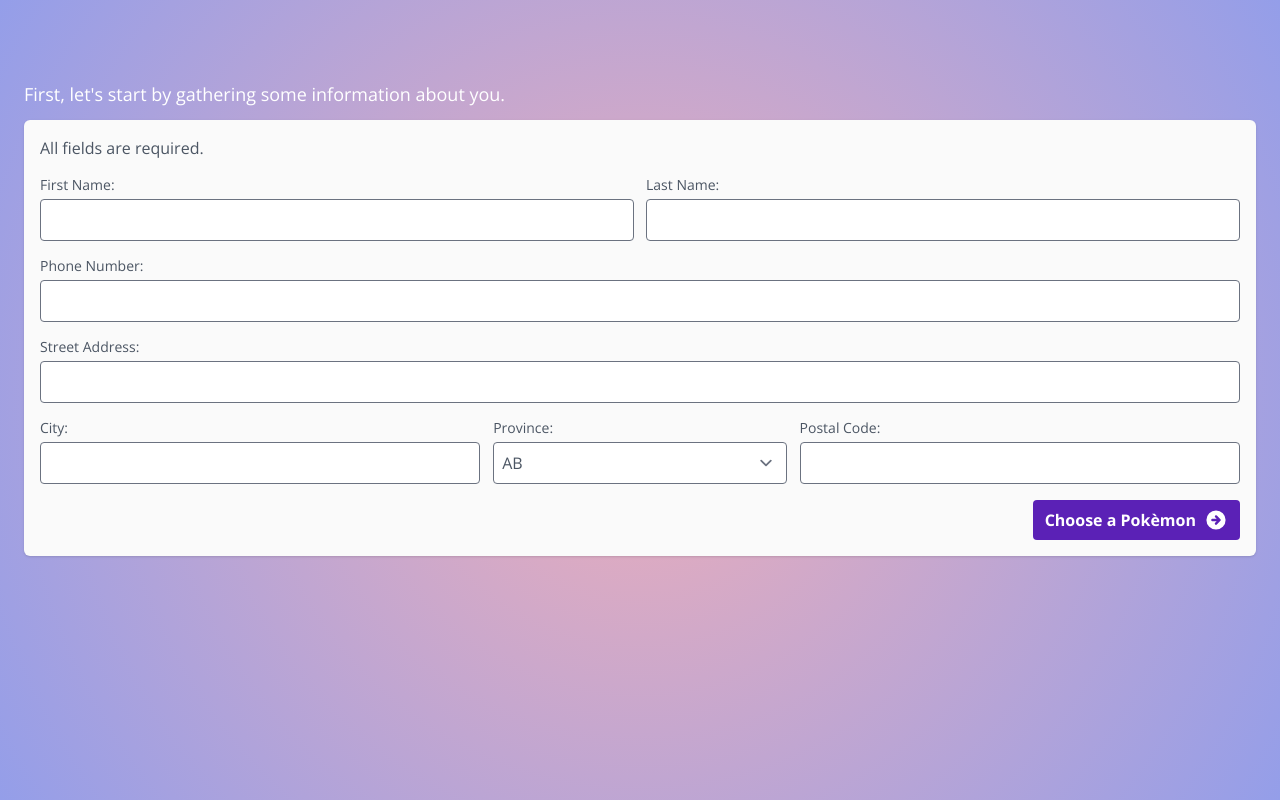
WelcomeForm › validates required input
Click the button "Choose a Pokèmon".
click(1136, 520)  # box [1033,500,1240,540]
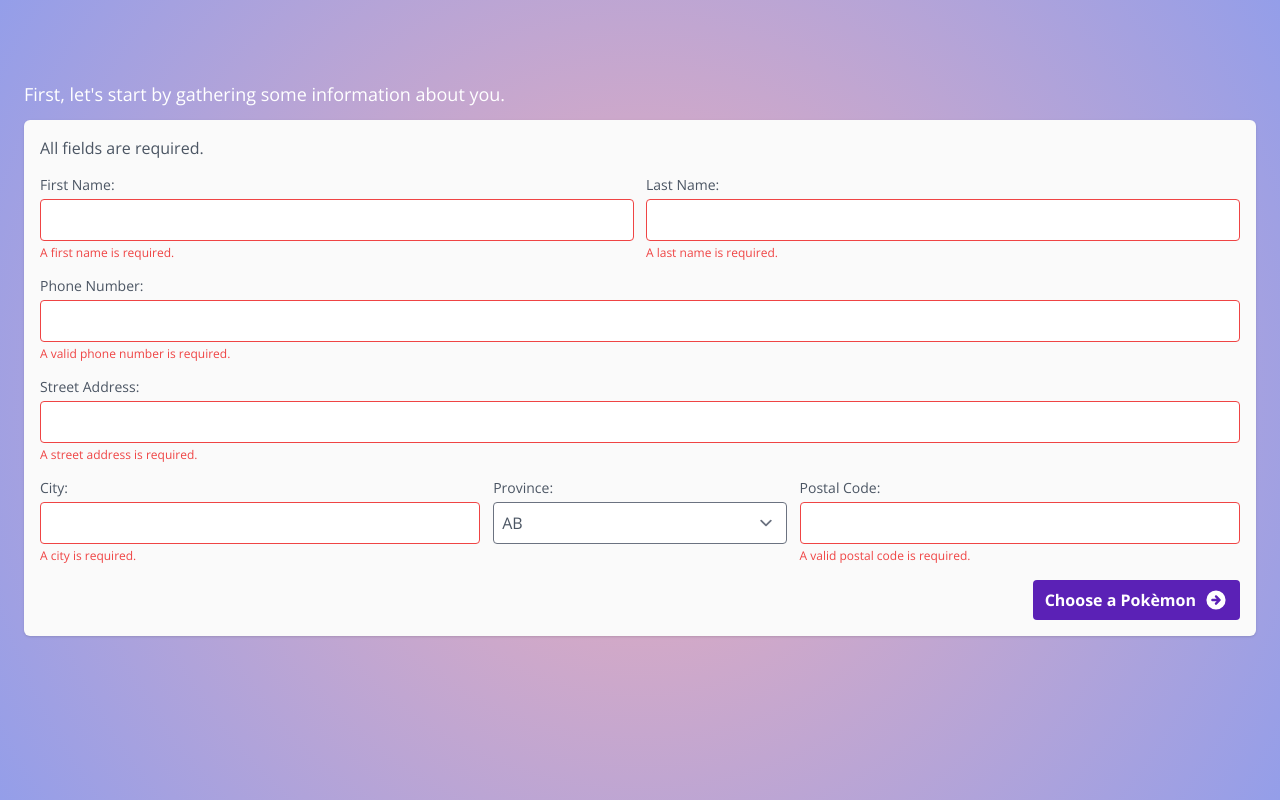
Expected: the text "A first name is required." is shown, [40,244,174,261]
